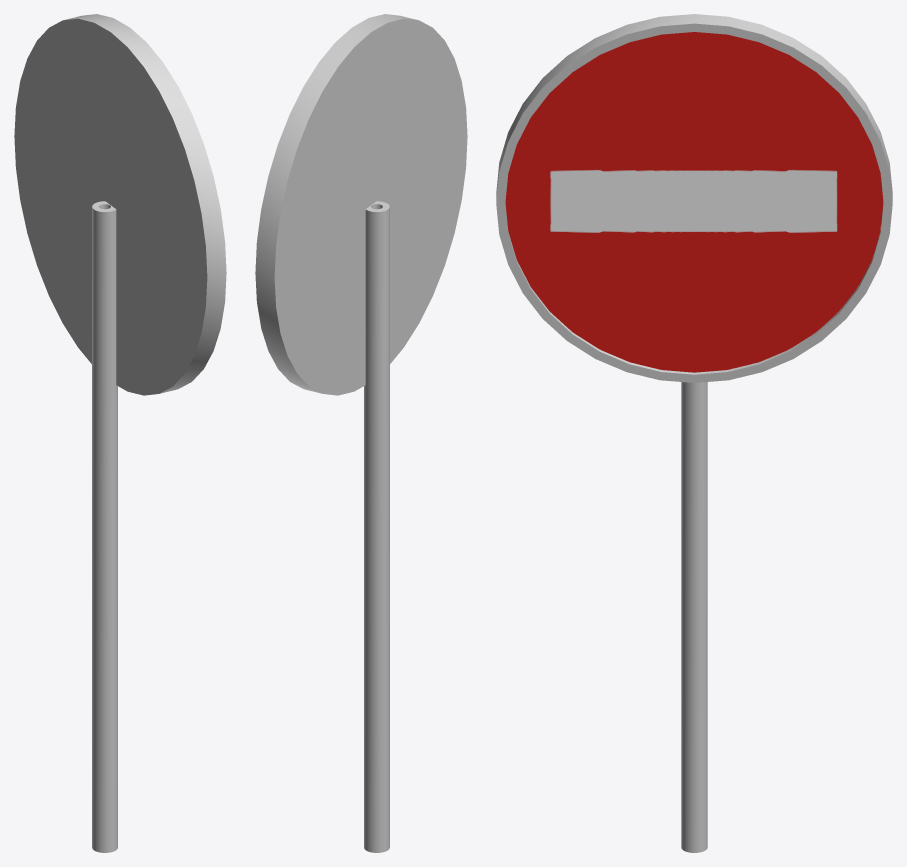
Rendered from 禁止通行.fbx.
3 views of the same model, side by side, from view 1: azimuth 30°, elevation 25°; view 2: azimuth 150°, elevation 25°; view 3: azimuth 270°, elevation 25° (orthographic). The views are drawn at different scales.
Parts seen in each view (by area): view 1: 圆柱_1; view 2: 圆柱_1; view 3: 圆柱_1.
Part boxes in pixels (left/top/right/bottom): 圆柱_1: left=14, top=14, right=226, bottom=852; 圆柱_1: left=255, top=14, right=467, bottom=852; 圆柱_1: left=496, top=14, right=892, bottom=852.
Bounding box in the file's own units: 54.42 × 1169 × 502.
Materials: 2 (1 with a texture image).
